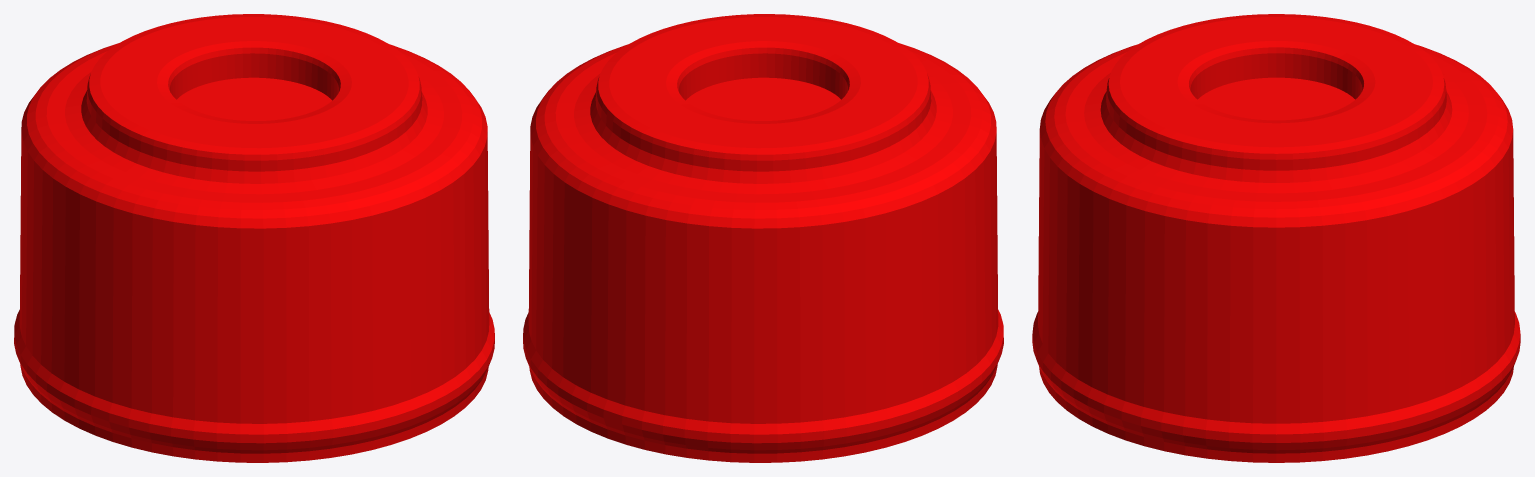
The picture shows the model from 3 angles, left to right: view 1: azimuth 30°, elevation 25°; view 2: azimuth 150°, elevation 25°; view 3: azimuth 270°, elevation 25°; orthographic projection.
Parts seen in each view (by area): view 1: MF0617_6_0; view 2: MF0617_6_0; view 3: MF0617_6_0.
Part boxes in pixels (box(x1,y1,x2,y2)): MF0617_6_0: box(14, 14, 494, 462); MF0617_6_0: box(523, 14, 1003, 462); MF0617_6_0: box(1032, 14, 1520, 462).
Size of the model in its own units: 89.58 by 90.87 by 57.87.
